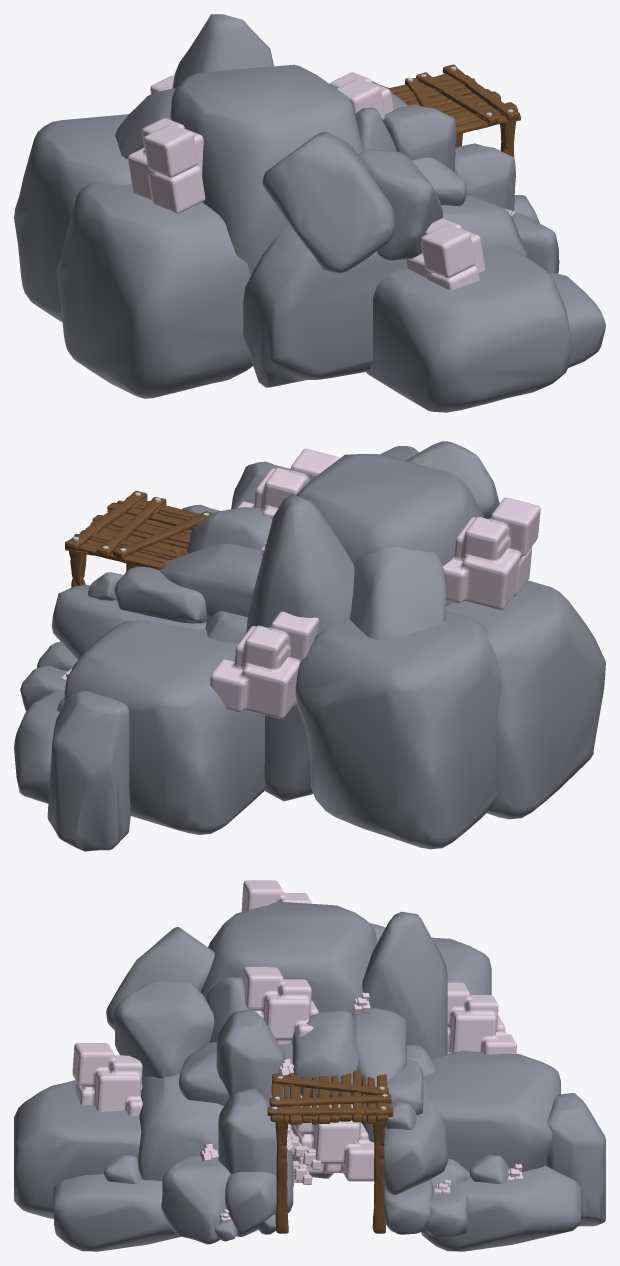
File: mineTile.fbx
The picture shows the model from 3 angles, top to bottom: view 1: azimuth 30°, elevation 25°; view 2: azimuth 150°, elevation 25°; view 3: azimuth 270°, elevation 25°; orthographic projection. The views are drawn at different scales.
Parts seen in each view (by area): view 1: Gold.031; view 2: Gold.031; view 3: Gold.031.
Part boxes in pixels (bbox=[...]): Gold.031: bbox=[14, 14, 605, 412]; Gold.031: bbox=[14, 441, 605, 851]; Gold.031: bbox=[14, 880, 605, 1251].
Size of the model in its own units: 406 by 257 by 521.
